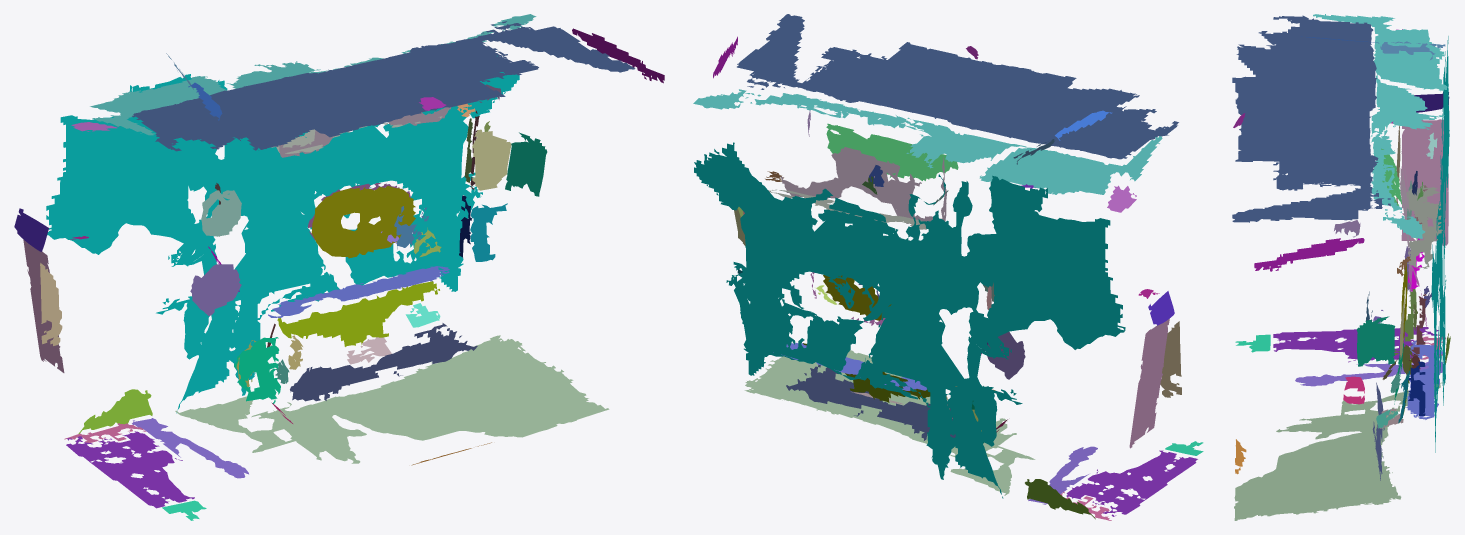
The model's file is room0_Air.glb.
3 renders of one model, left to right at view 1: azimuth 30°, elevation 25°; view 2: azimuth 150°, elevation 25°; view 3: azimuth 270°, elevation 25°, orthographic. The views are drawn at different scales.
Parts seen in each view (by area): view 1: world; view 2: world; view 3: world.
Part boxes in pixels (<box>): world: <box>14,14,664,520</box>; world: <box>693,14,1203,520</box>; world: <box>1232,14,1450,520</box>.
Bounding box in the file's own units: 8 × 5.16 × 2.99.
